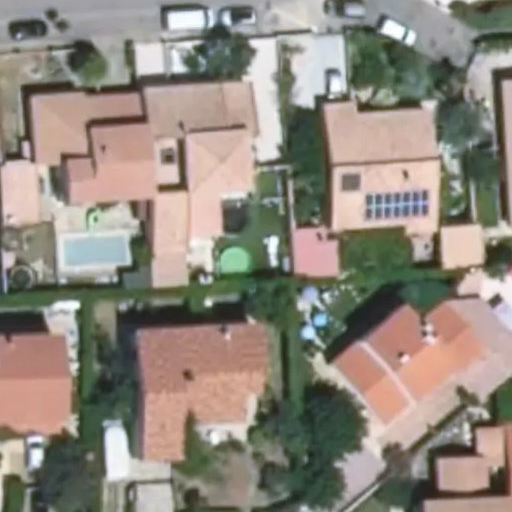pool: (223, 216, 286, 266)
